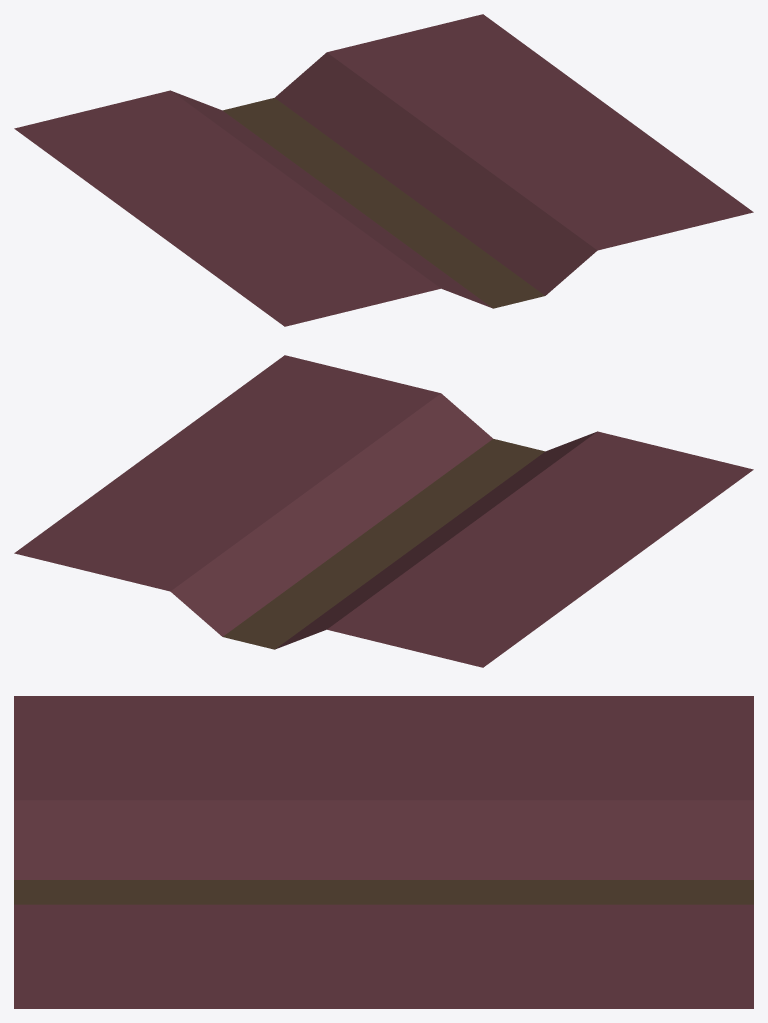
The model's file is tiles-nb-tile-river-basin-nb.glb.
3 views of the same model, one above another, from view 1: azimuth 30°, elevation 25°; view 2: azimuth 150°, elevation 25°; view 3: azimuth 270°, elevation 25° (orthographic). The views are drawn at different scales.
Visible parts, largest first — view 1: tile-river-basin-nb; view 2: tile-river-basin-nb; view 3: tile-river-basin-nb.
Boxes of the visible parts, bbox=[...] form: tile-river-basin-nb: bbox=[14, 14, 753, 326]; tile-river-basin-nb: bbox=[14, 355, 753, 667]; tile-river-basin-nb: bbox=[14, 696, 753, 1008].
Bounding box in the file's own units: 30 × 2 × 30.
